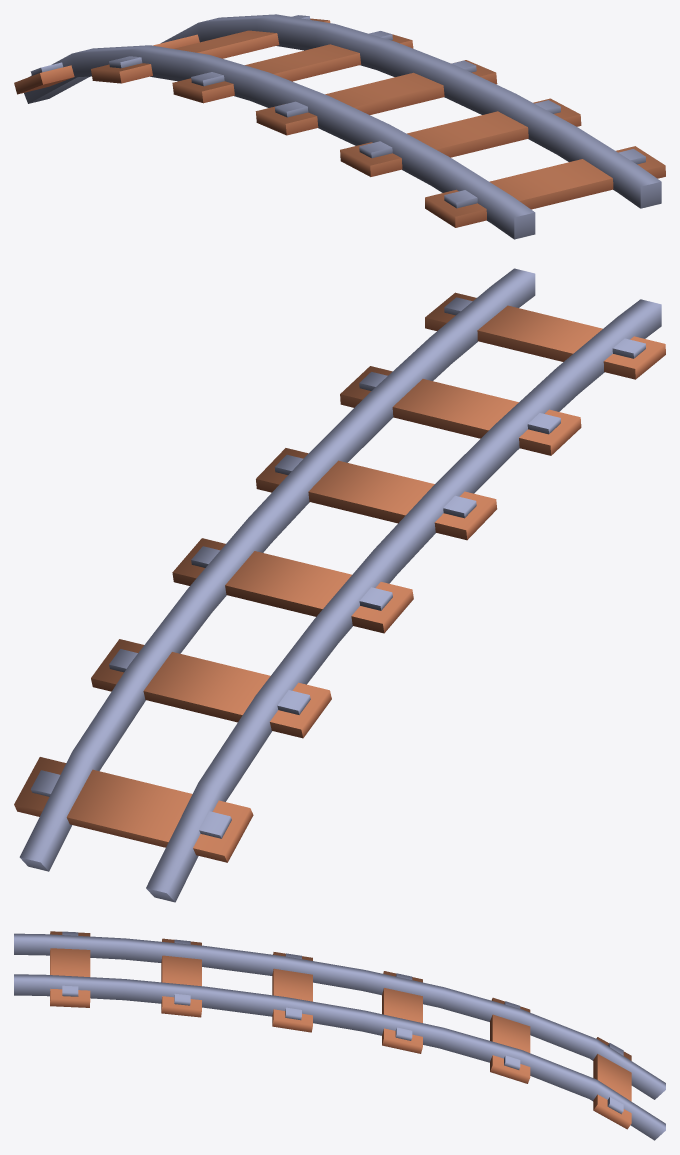
The model's file is railroad-straight-hill-end.glb.
3 renders of one model, top to bottom at view 1: azimuth 30°, elevation 25°; view 2: azimuth 150°, elevation 25°; view 3: azimuth 270°, elevation 25°, orthographic. The views are drawn at different scales.
Visible parts, largest first — view 1: railroad-straight-hill-end; view 2: railroad-straight-hill-end; view 3: railroad-straight-hill-end.
Boxes of the visible parts, x1,y1,x2,y2 form: railroad-straight-hill-end: (14, 14, 665, 239); railroad-straight-hill-end: (14, 268, 665, 902); railroad-straight-hill-end: (14, 931, 665, 1140).
Bounding box in the file's own units: 1 × 1.1 × 4.07.
